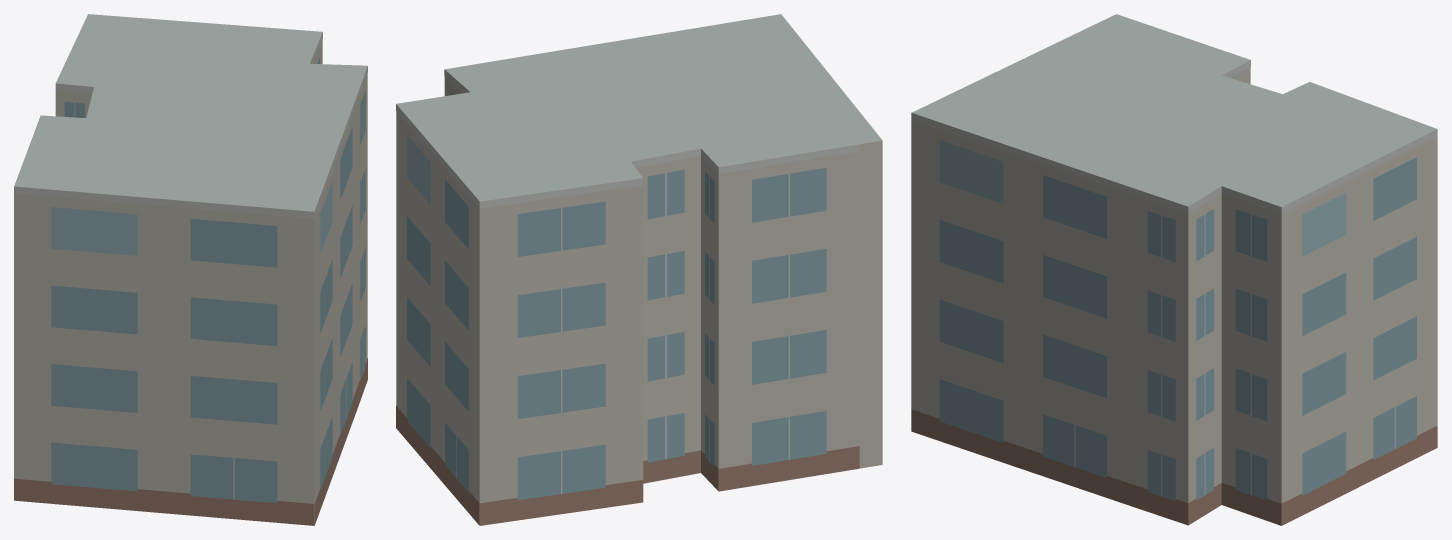
File: survey-upis-32708707.glb
3 views of the same model, side by side, from view 1: azimuth 30°, elevation 25°; view 2: azimuth 150°, elevation 25°; view 3: azimuth 270°, elevation 25° (orthographic). The views are drawn at different scales.
Parts seen in each view (by area): view 1: survey-upis-32708707.tmp; view 2: survey-upis-32708707.tmp; view 3: survey-upis-32708707.tmp.
Boxes of the visible parts, <box> form: survey-upis-32708707.tmp: <box>14,14,367,525</box>; survey-upis-32708707.tmp: <box>396,14,882,525</box>; survey-upis-32708707.tmp: <box>911,14,1437,525</box>.
Bounding box in the file's own units: 14.56 × 11.2 × 16.76.
